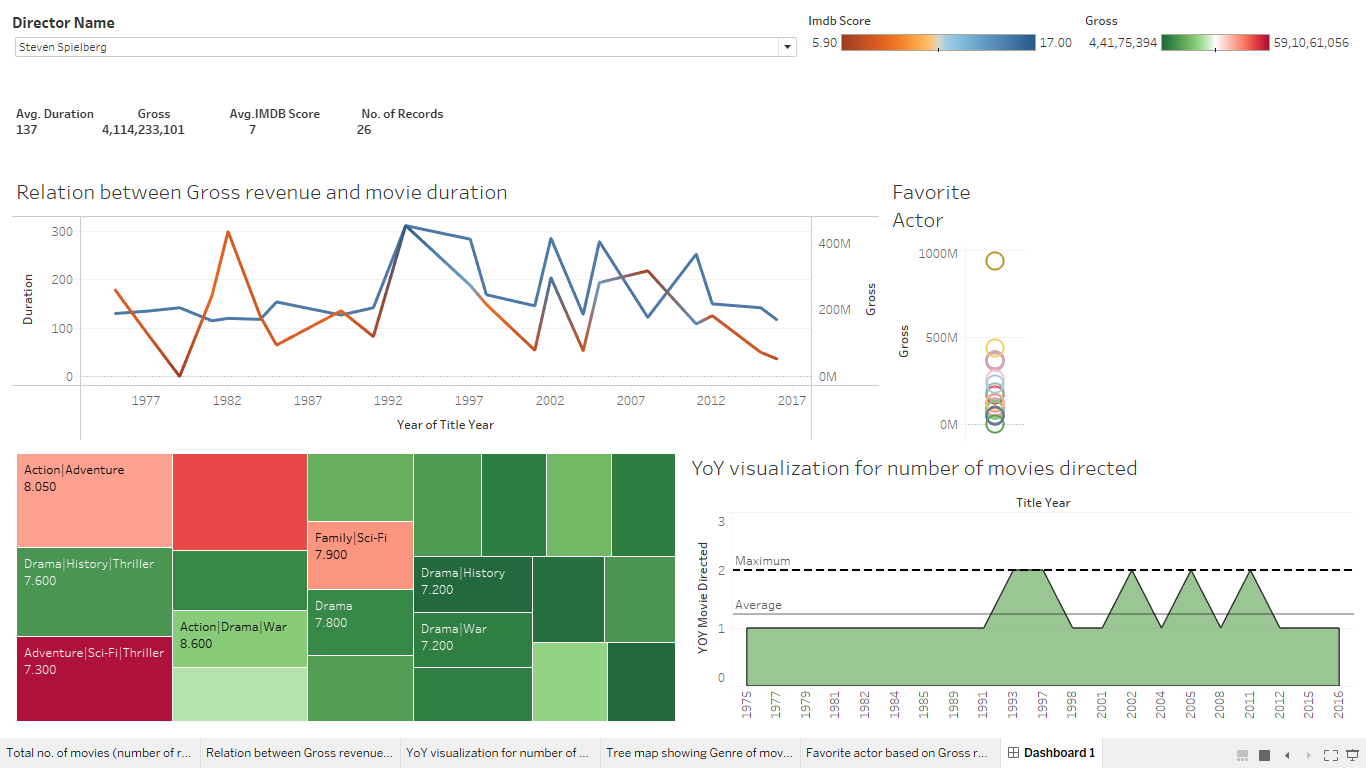

This screenshot's page, from the dashboard's own definition file:
{"tool":"tableau","page":{"name":"Dashboard 1","canvas":[1000,1000],"units":"permille","ordinal":0},"visuals":[{"type":"filter","title":"Total no. of movies (number of records)","param":"[federated.1jme03k0tlq0k116h1gyn0yc8vv0].[none:director_name:nk]","box":[6.9,13.5,689.2,104.7]},{"type":"legend","title":"Relation between Gross revenue and movie duration","param":"[federated.1jme03k0tlq0k116h1gyn0yc8vv0].[sum:imdb_score:qk]","box":[696.1,13.5,148.5,104.7]},{"type":"legend","title":"Tree map showing Genre of movies directed based on Average IMDB score and colorcoded based on Gross revenue","param":"[federated.1jme03k0tlq0k116h1gyn0yc8vv0].[sum:gross:qk]","box":[844.6,13.5,148.5,104.7]},{"type":"worksheet","title":"Total no. of movies (number of records)","mark":"Automatic","box":[6.9,118.2,986.1,112.9]},{"type":"worksheet","title":"Relation between Gross revenue and movie duration","mark":"Automatic","rows":["duration","gross"],"cols":["title_year"],"box":[6.9,231.2,639.8,371.6]},{"type":"worksheet","title":"Favorite actor based on Gross revenue of their movies","mark":"Shape","rows":["gross"],"box":[646.7,231.2,346.4,371.6]},{"type":"worksheet","title":"Tree map showing Genre of movies directed based on Average IMDB score and colorcoded based on Gross revenue","mark":"Automatic","box":[6.9,602.7,493,383.8]},{"type":"worksheet","title":"YoY visualization for number of movies directed ","mark":"Area","rows":["movie_title"],"cols":["title_year"],"box":[500,602.7,493.1,383.8]}]}

Visuals, with their boxes on the dashboard's canvas, which has no fixed pixel size, in thousandths of its width and height (x1, y1, x2, y2). These are canvas units, not pixel positions in the 1366x768 screenshot, which may show the page scaled, cropped or inside an application window:
"Total no. of movies (number of records)" filter: 7,14,696,118
"Relation between Gross revenue and movie duration" legend: 696,14,845,118
"Tree map showing Genre of movies directed based on Average IMDB score and colorcoded based on Gross revenue" legend: 845,14,993,118
"Total no. of movies (number of records)" worksheet: 7,118,993,231
"Relation between Gross revenue and movie duration" worksheet: 7,231,647,603
"Favorite actor based on Gross revenue of their movies" worksheet (Shape marks): 647,231,993,603
"Tree map showing Genre of movies directed based on Average IMDB score and colorcoded based on Gross revenue" worksheet: 7,603,500,986
"YoY visualization for number of movies directed " worksheet (Area marks): 500,603,993,986
